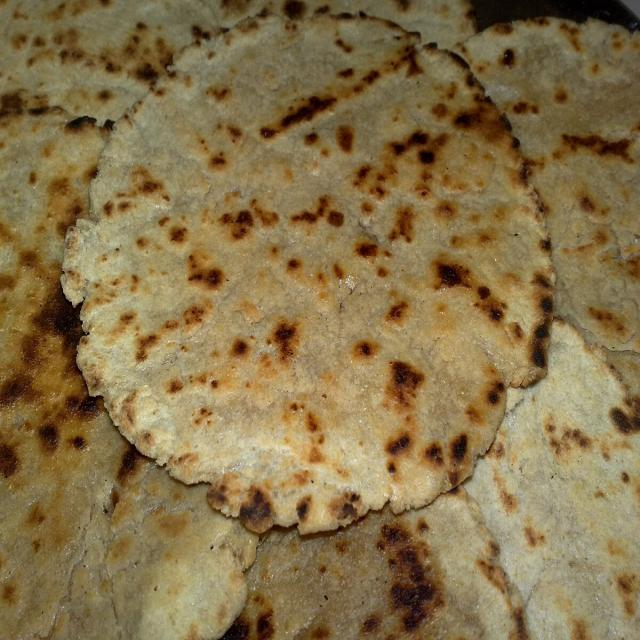ROTI: (62, 6, 550, 533)
